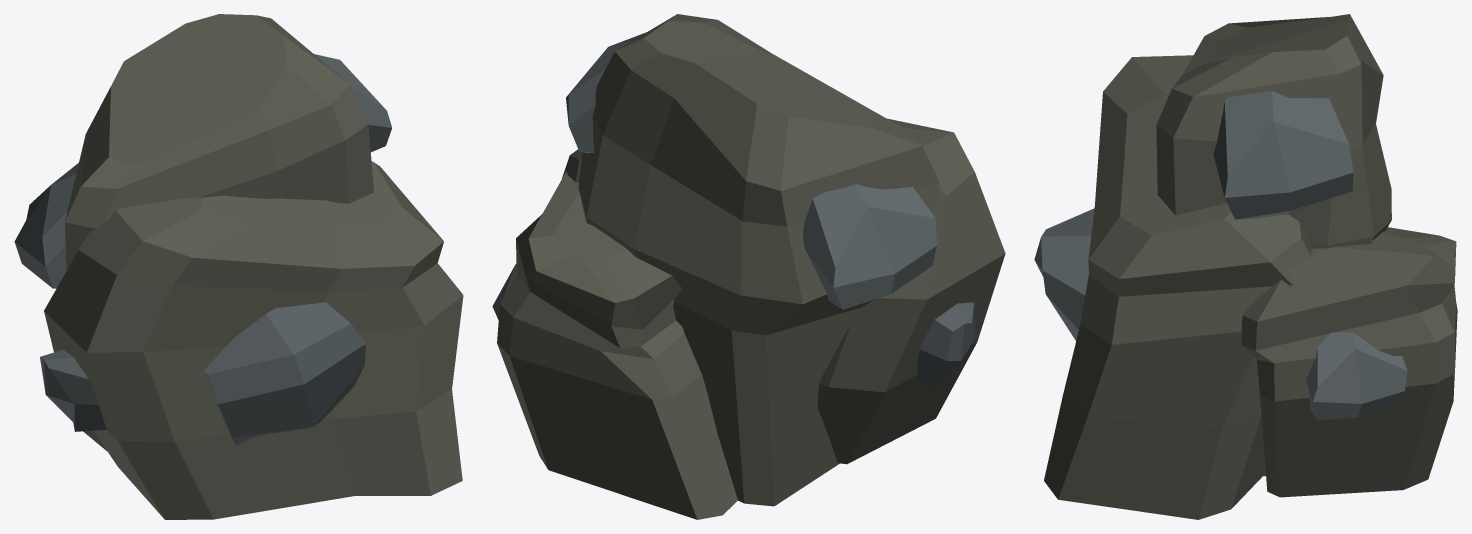
File: Ore2_Grey.fbx
The picture shows the model from 3 angles, left to right: view 1: azimuth 30°, elevation 25°; view 2: azimuth 150°, elevation 25°; view 3: azimuth 270°, elevation 25°; orthographic projection. The views are drawn at different scales.
Visible parts, largest first — view 1: Ore2_Grey, Grey; view 2: Ore2_Grey, Grey; view 3: Ore2_Grey, Grey.
Part boxes in pixels (x1=…): Ore2_Grey: x1=44, y1=14, x2=463, y2=519; Grey: x1=14, y1=54, x2=391, y2=445; Ore2_Grey: x1=497, y1=14, x2=1005, y2=519; Grey: x1=492, y1=32, x2=975, y2=385; Ore2_Grey: x1=1044, y1=14, x2=1457, y2=519; Grey: x1=1034, y1=91, x2=1407, y2=419.
Size of the model in its own units: 211 by 201 by 188.
